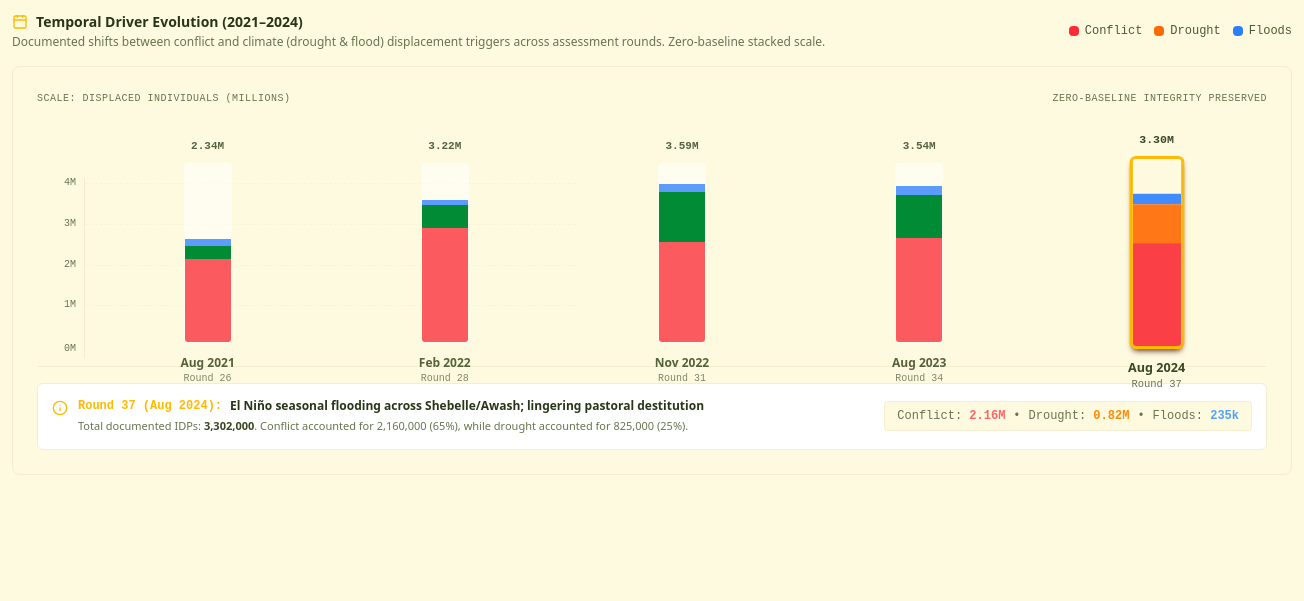
Test: Visualization Quality, Empty & Error States › Chart Scale Integrity & Empty Fallbacks › displays StaleDataIndicator in DriverTimelineChart when historical round is selected
The width and height of the screenshot is (1304, 601).
Expected: the text "Historical Assessment Context" is not shown
// Click Round 31 button
Click the button "3.59M Nov 2022 Round 31" at (682, 262), box [571,138,793,386]
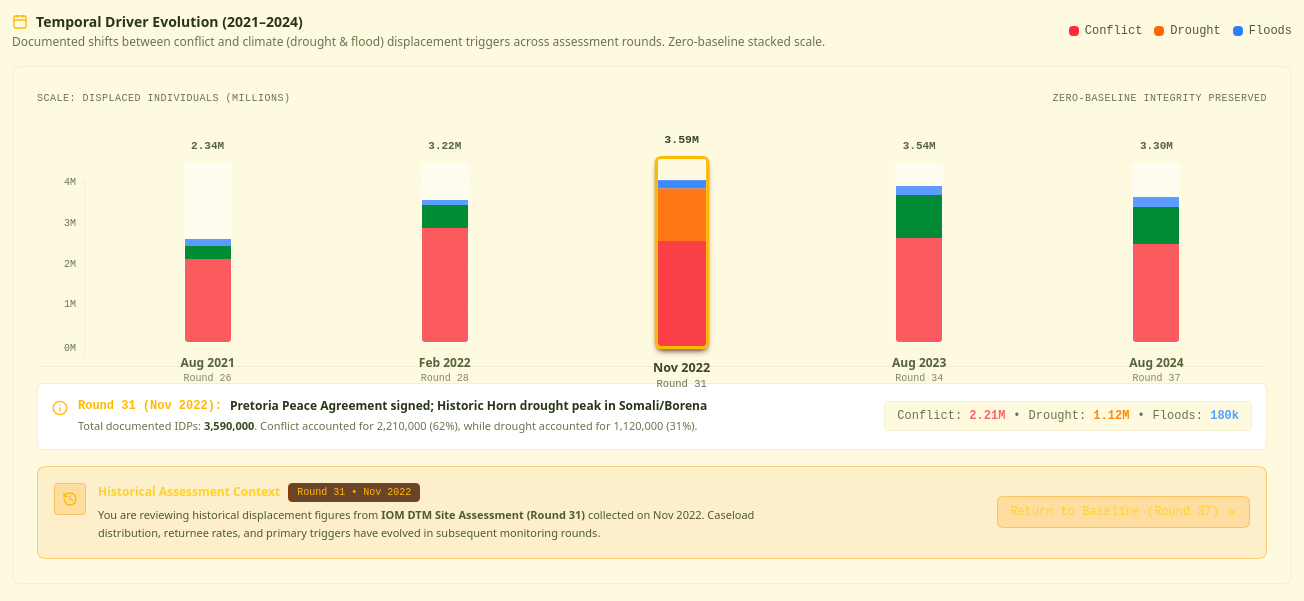
Expected: the text "Historical Assessment Context" is shown, [98,484,280,500]
// Return to baseline
Click the button "Return to Baseline (Round 37)" at (1124, 512), box [997,496,1250,528]
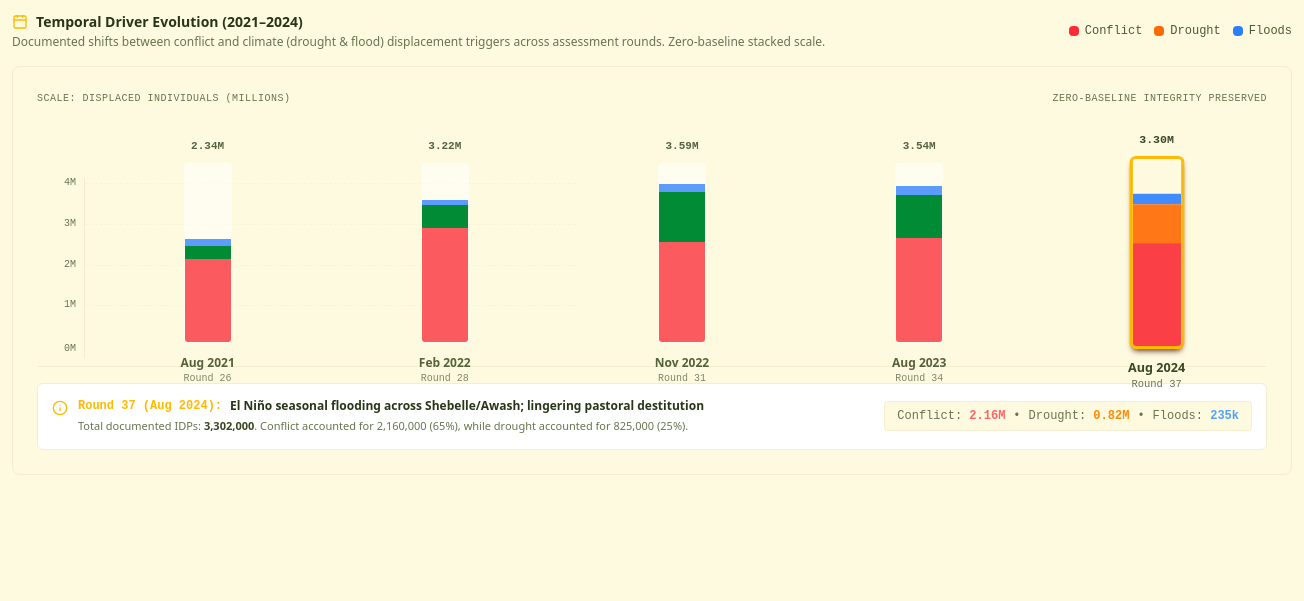
Expected: the text "Historical Assessment Context" is gone
